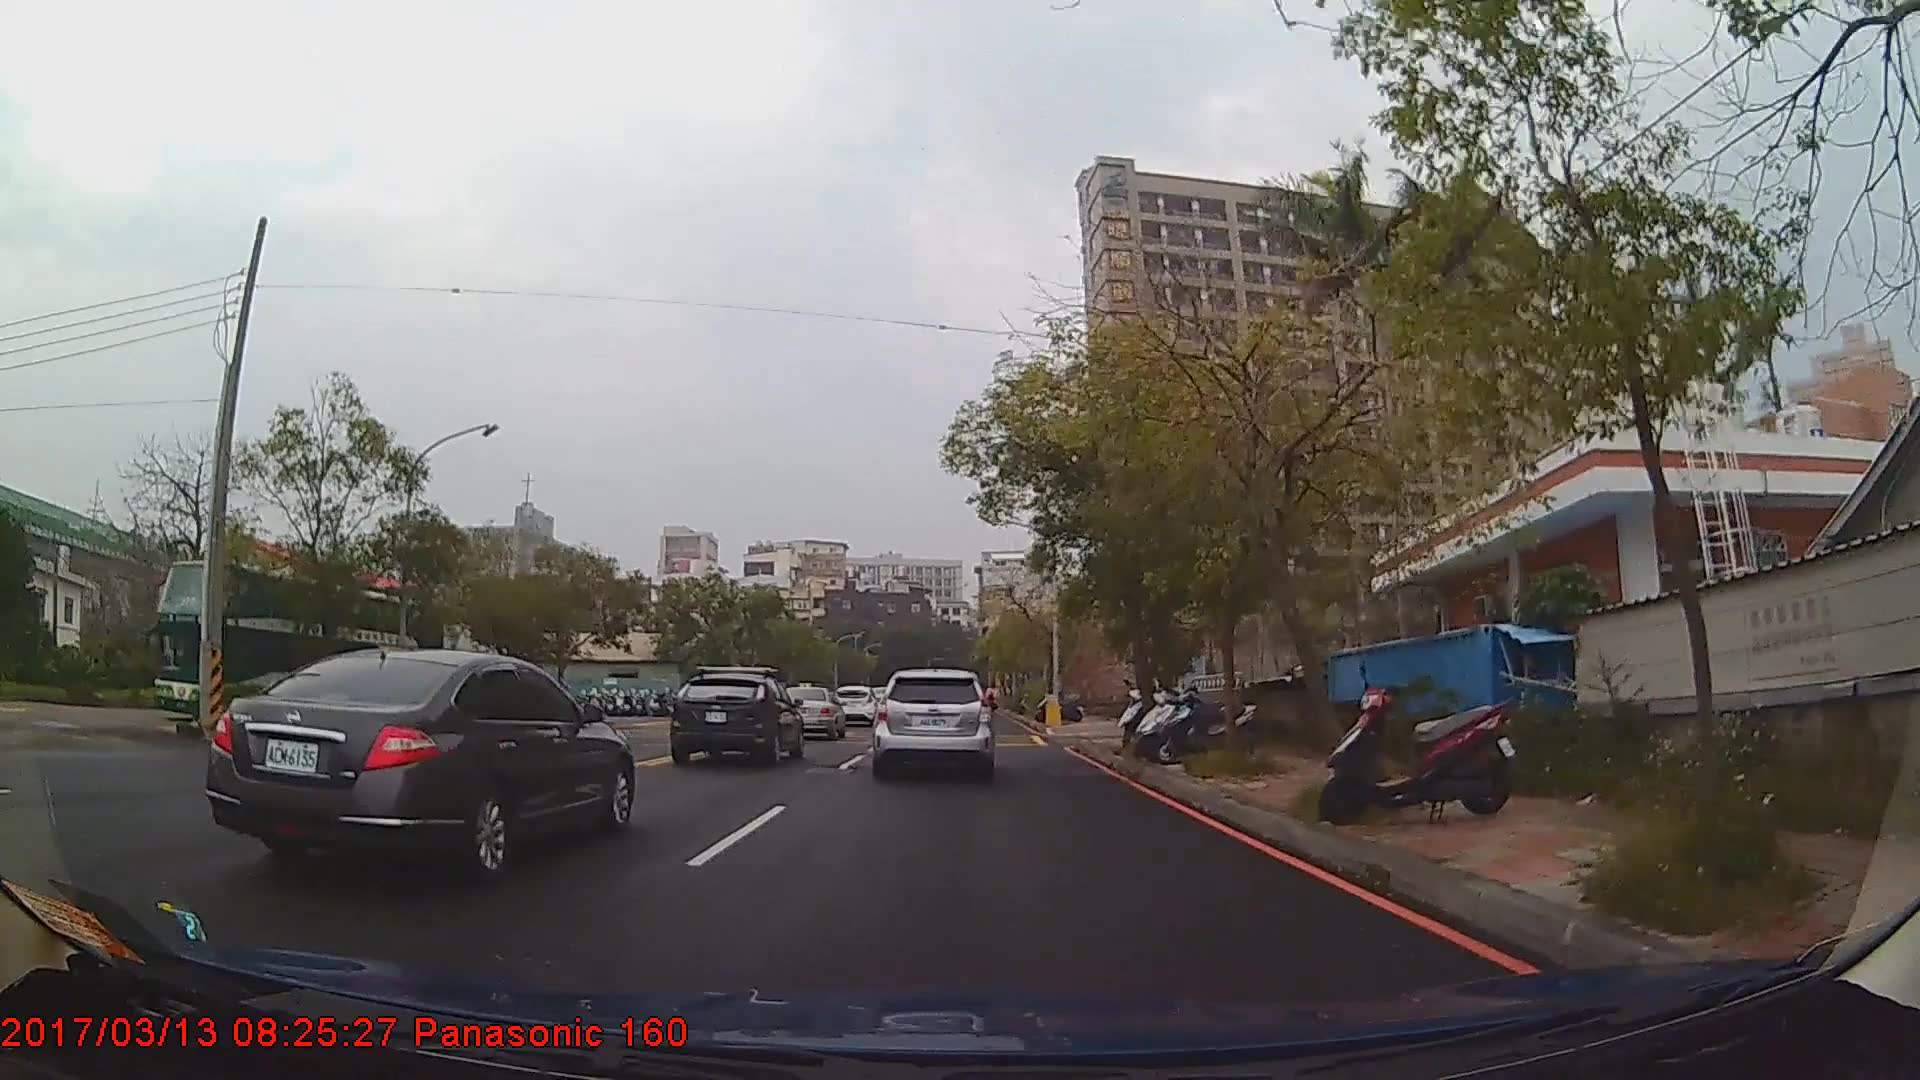vehicle: (204, 645, 637, 878), (148, 555, 451, 744), (667, 670, 804, 770), (874, 666, 992, 777), (778, 684, 844, 742), (832, 682, 880, 725)
